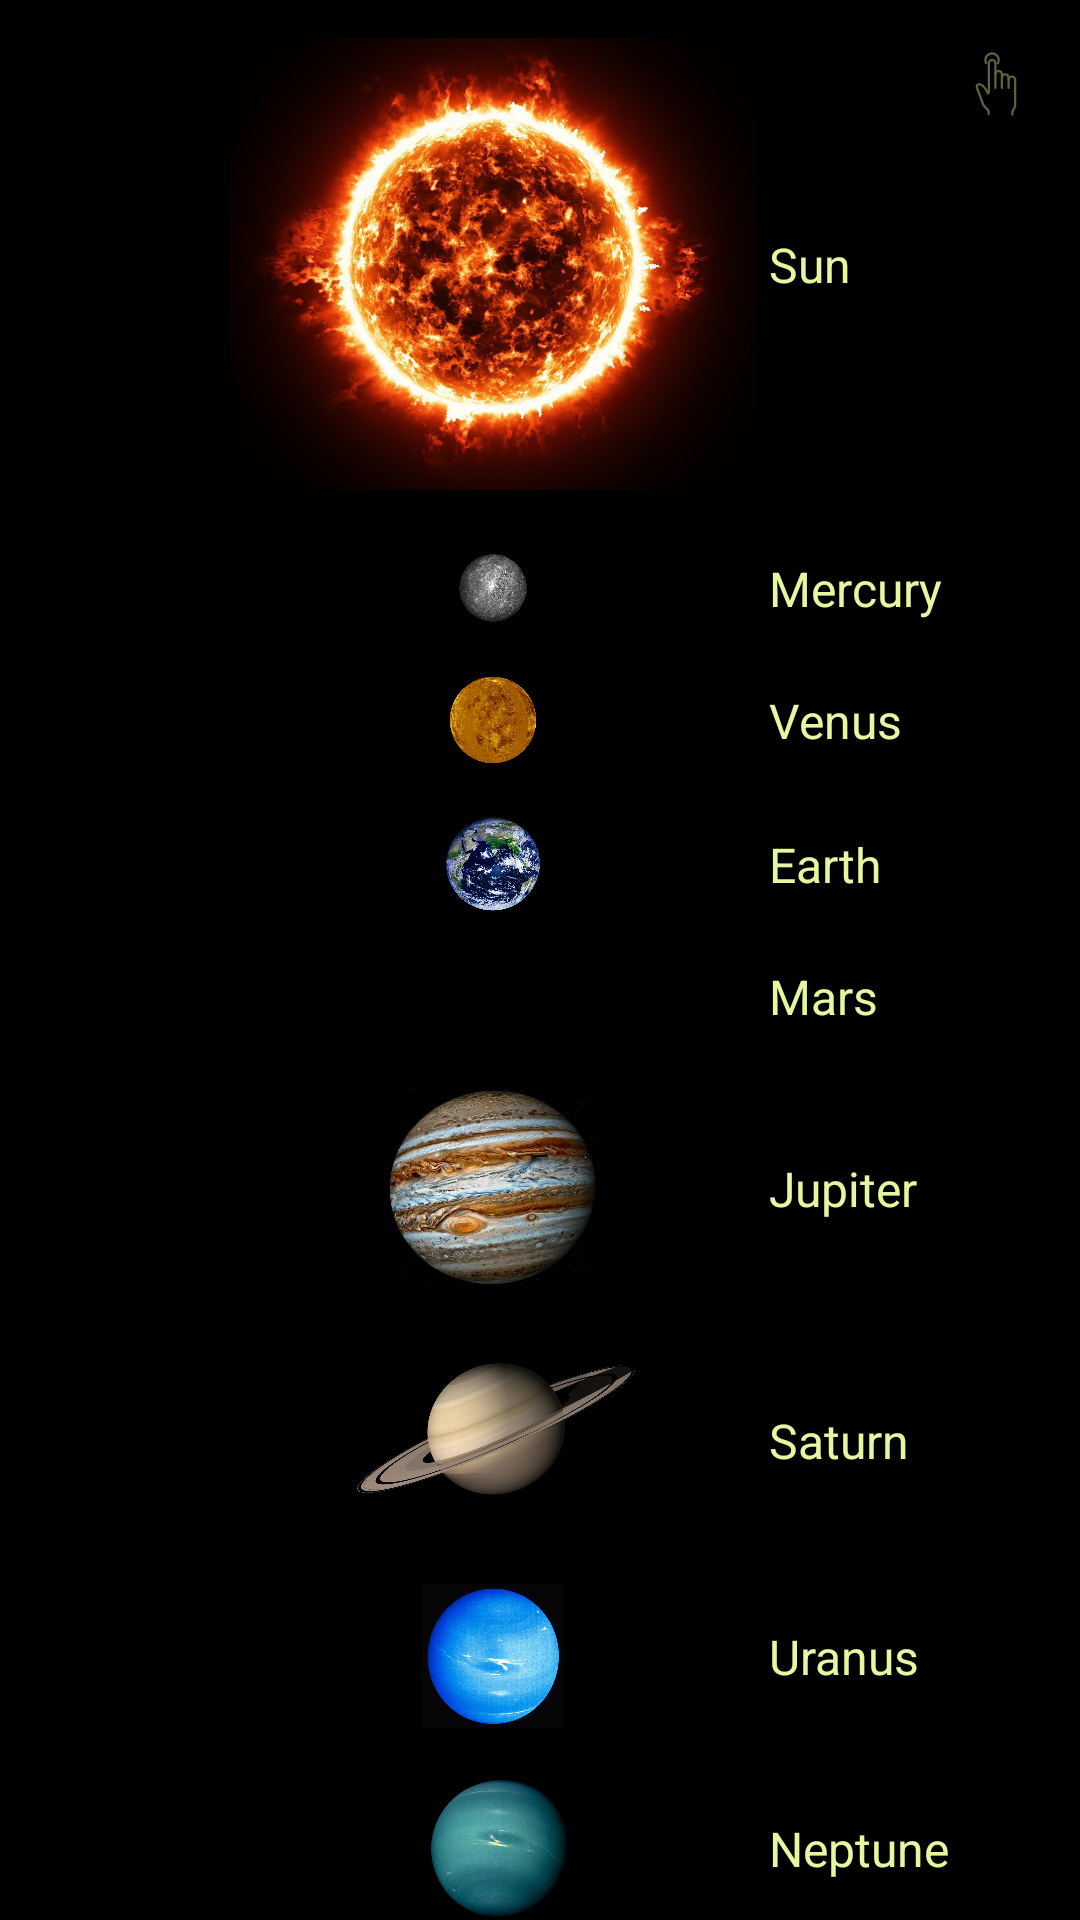

Icons on this 1080px×1920px Android screen, each with the point to tap as point (x, y):
Earth: point (493, 864)
Jupiter: point (490, 1187)
Mercury: point (493, 588)
Neptune: point (498, 1848)
Touch: point (996, 84)
Uranus: point (493, 1656)
Venus: point (493, 720)
